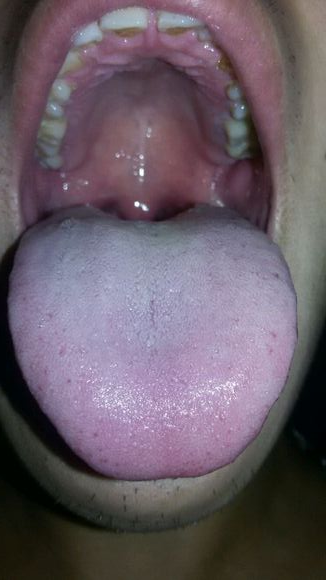hongdianshe: (270, 267, 282, 283)
shenquao: (75, 202, 209, 233)
zishe: (6, 203, 297, 480)
